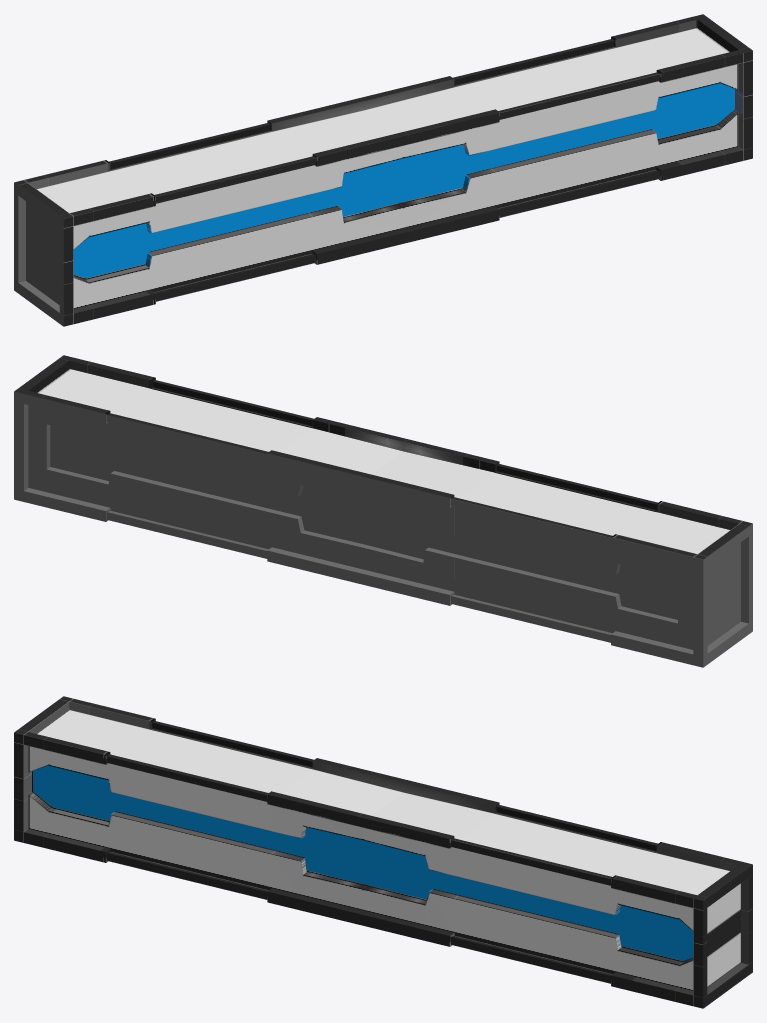
File: Slider.fbx
The picture shows the model from 3 angles, top to bottom: view 1: azimuth 30°, elevation 25°; view 2: azimuth 150°, elevation 25°; view 3: azimuth 330°, elevation 25°; orthographic projection.
Parts seen in each view (by area): view 1: pCube2; view 2: pCube2; view 3: pCube2.
Part boxes in pixels (left/top/right/bottom): pCube2: left=14, top=14, right=752, bottom=326; pCube2: left=14, top=355, right=752, bottom=667; pCube2: left=14, top=696, right=752, bottom=1008.
Bounding box in the file's own units: 244 × 36.51 × 30.42.
